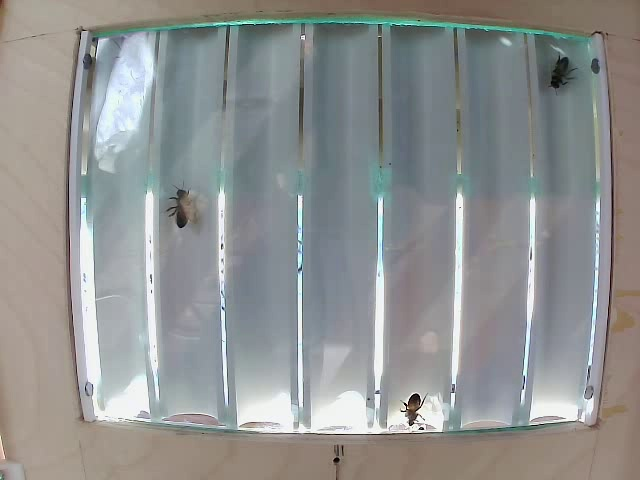bee: (168, 180, 212, 244), (544, 44, 591, 100), (396, 389, 432, 431)
